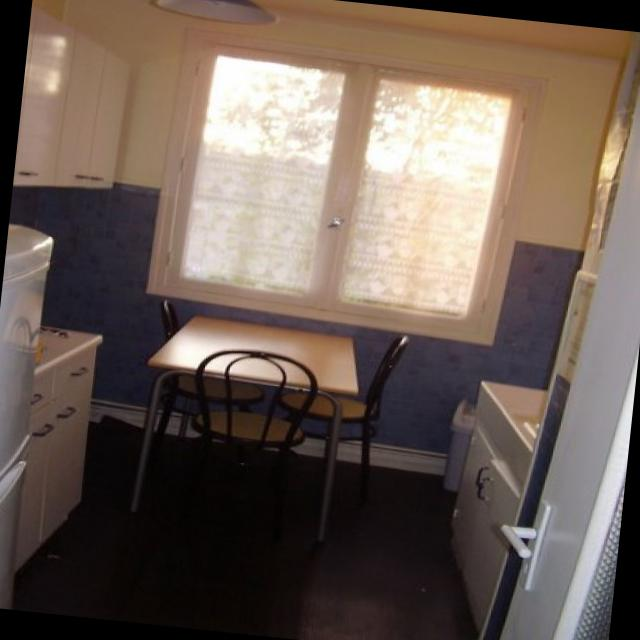2001: (144, 28, 548, 347)
cupboard crop: (14, 7, 76, 186), (53, 32, 106, 186)
door bars: (497, 69, 640, 640)
fridge crop: (0, 222, 49, 607)
table -X: (146, 313, 358, 393)
